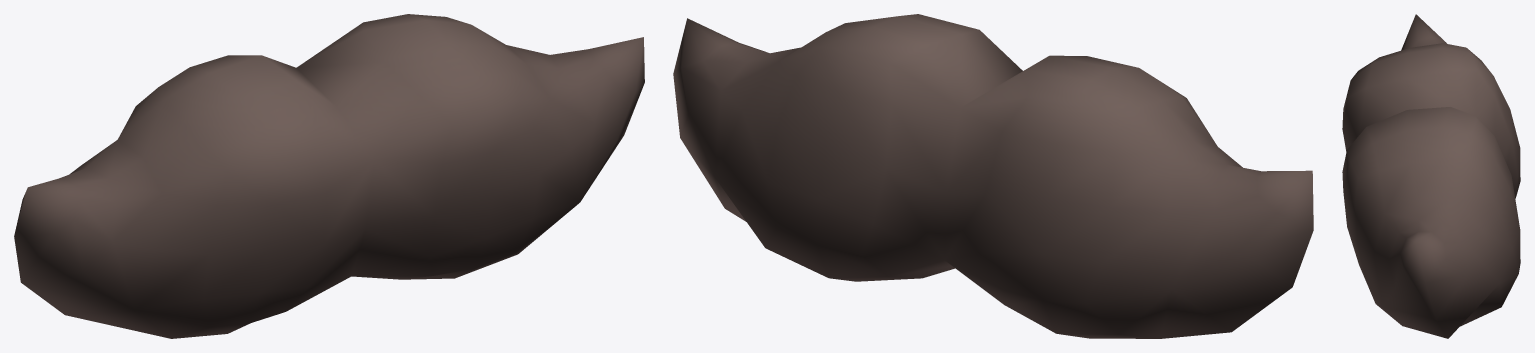
File: Mustache_08.glb
The picture shows the model from 3 angles, left to right: view 1: azimuth 30°, elevation 25°; view 2: azimuth 150°, elevation 25°; view 3: azimuth 270°, elevation 25°; orthographic projection. The views are drawn at different scales.
Visible parts, largest first — view 1: Mustache_08; view 2: Mustache_08; view 3: Mustache_08.
Boxes of the visible parts, x1,y1,x2,y2 form: Mustache_08: [14, 14, 644, 338]; Mustache_08: [673, 14, 1313, 338]; Mustache_08: [1342, 14, 1520, 338].
Size of the model in its own units: 0.1895 by 0.0705 by 0.0613.
Materials: 1 (1 with a texture image).
